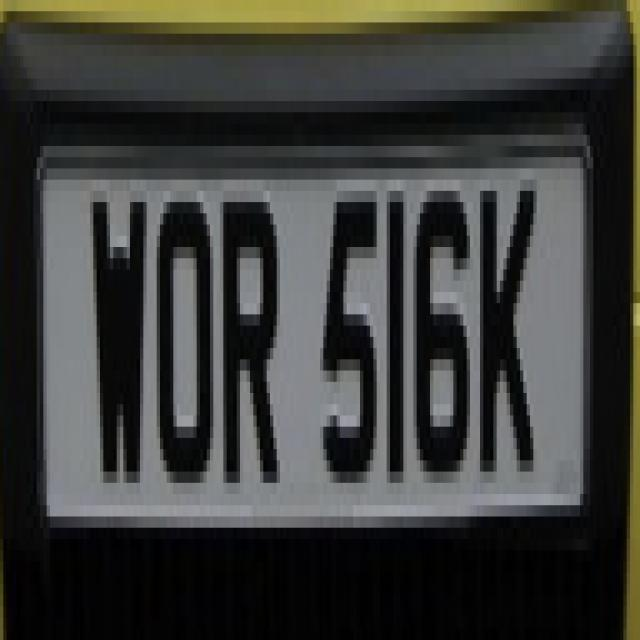1: (382, 168, 410, 530)
5: (319, 175, 382, 519)
6: (413, 174, 475, 504)
K: (474, 165, 538, 494)
O: (148, 173, 218, 509)
R: (217, 178, 286, 534)
W: (88, 171, 148, 498)
